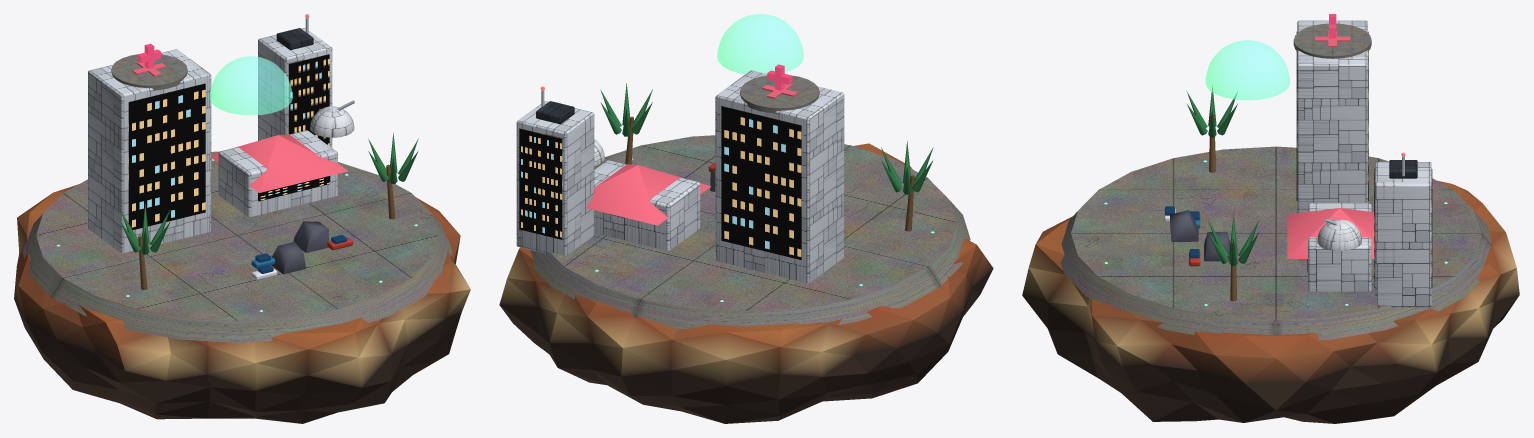
Rendered from welfare.glb.
The picture shows the model from 3 angles, left to right: view 1: azimuth 30°, elevation 25°; view 2: azimuth 150°, elevation 25°; view 3: azimuth 270°, elevation 25°; orthographic projection. The views are drawn at different scales.
Parts seen in each view (by area): view 1: object 2, object 1, object 12, object 13, object 20, object 55, object 61, object 21, object 56, object 17, grass, object 23 (+2 smaller); view 2: object 1, object 2, object 12, object 14, object 55, object 20, object 57, object 61, object 21, object 17, object 58; view 3: object 2, object 1, object 12, object 55, object 61, object 20, object 21, object 17, grass, object 23, object 58.
Part boxes in pixels (bbox=[...]): object 2: bbox=[22, 151, 452, 342]; object 1: bbox=[14, 184, 470, 423]; object 12: bbox=[88, 49, 211, 253]; object 13: bbox=[128, 83, 205, 229]; object 20: bbox=[218, 130, 337, 216]; object 55: bbox=[258, 28, 332, 147]; object 61: bbox=[209, 56, 292, 115]; object 21: bbox=[211, 134, 347, 192]; object 56: bbox=[288, 54, 329, 145]; object 17: bbox=[111, 54, 187, 90]; grass: bbox=[272, 221, 329, 274]; object 23: bbox=[310, 106, 354, 137]; object 1: bbox=[499, 143, 993, 423]; object 2: bbox=[530, 135, 970, 329]; object 12: bbox=[715, 70, 844, 283]; object 14: bbox=[721, 106, 801, 259]; object 55: bbox=[516, 101, 594, 255]; object 20: bbox=[594, 160, 700, 250]; object 57: bbox=[519, 128, 562, 239]; object 61: bbox=[717, 14, 803, 74]; object 21: bbox=[586, 164, 710, 225]; object 17: bbox=[740, 75, 819, 113]; object 58: bbox=[536, 101, 574, 124]; object 2: bbox=[1060, 146, 1492, 340]; object 1: bbox=[1022, 180, 1519, 423]; object 12: bbox=[1297, 20, 1367, 213]; object 55: bbox=[1375, 162, 1431, 307]; object 61: bbox=[1205, 40, 1289, 100]; object 20: bbox=[1308, 203, 1371, 291]; object 21: bbox=[1287, 208, 1374, 258]; object 17: bbox=[1293, 23, 1371, 58]; grass: bbox=[1170, 210, 1230, 261]; object 23: bbox=[1317, 219, 1361, 250]; object 58: bbox=[1389, 160, 1417, 178].
Size of the model in its own units: 6.8 by 4.95 by 7.03.
21 materials, 7 textured.
